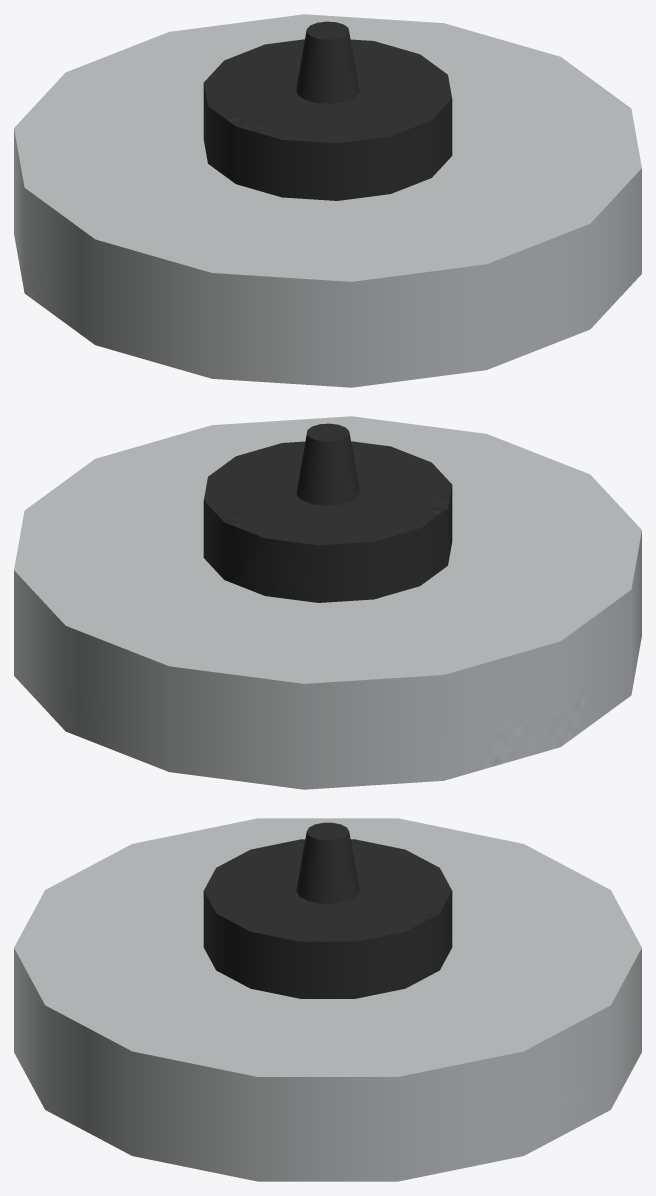
The model's file is tool_lever_pipe_expander_nozzle_06.glb.
The picture shows the model from 3 angles, top to bottom: view 1: azimuth 30°, elevation 25°; view 2: azimuth 150°, elevation 25°; view 3: azimuth 270°, elevation 25°; orthographic projection.
Parts seen in each view (by area): view 1: tool_lever_pipe_expander_nozzle_06; view 2: tool_lever_pipe_expander_nozzle_06; view 3: tool_lever_pipe_expander_nozzle_06.
Part boxes in pixels (<box>): tool_lever_pipe_expander_nozzle_06: <box>14,14,641,387</box>; tool_lever_pipe_expander_nozzle_06: <box>14,416,641,789</box>; tool_lever_pipe_expander_nozzle_06: <box>14,818,641,1181</box>.
Bounding box in the file's own units: 0.0698 × 0.0278 × 0.0716.
Materials: 1 (1 with a texture image).
